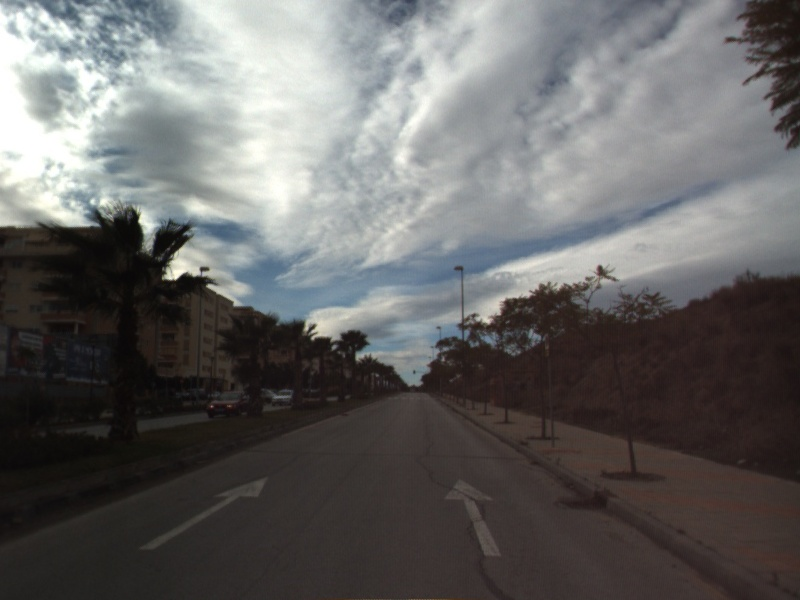STRAIGHT: (137, 474, 271, 552), (442, 477, 503, 558)
